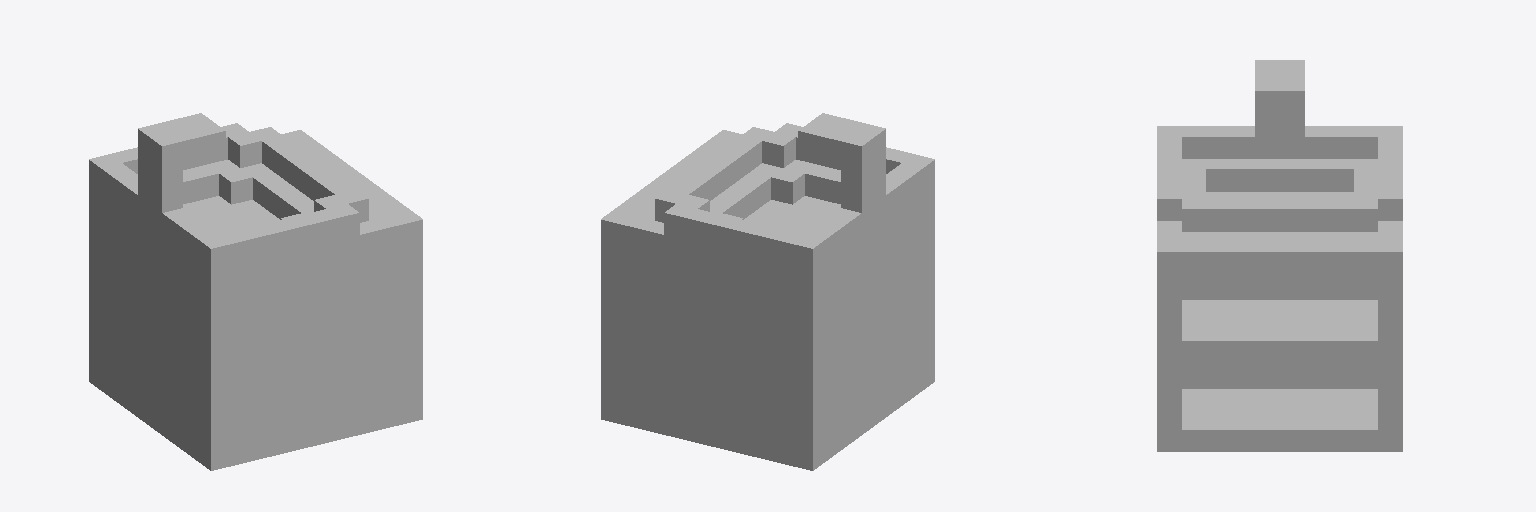
Rendered from Sink.obj.
The picture shows the model from 3 angles: view 1: azimuth 30°, elevation 25°; view 2: azimuth 150°, elevation 25°; view 3: azimuth 270°, elevation 25°; orthographic projection.
Parts seen in each view (by area): view 1: object 1; view 2: object 1; view 3: object 1.
Boxes of the visible parts, <box> form: object 1: <box>89,113,422,470</box>; object 1: <box>601,113,934,470</box>; object 1: <box>1157,60,1402,451</box>.
Bounding box in the file's own units: 1 × 1.3 × 1.